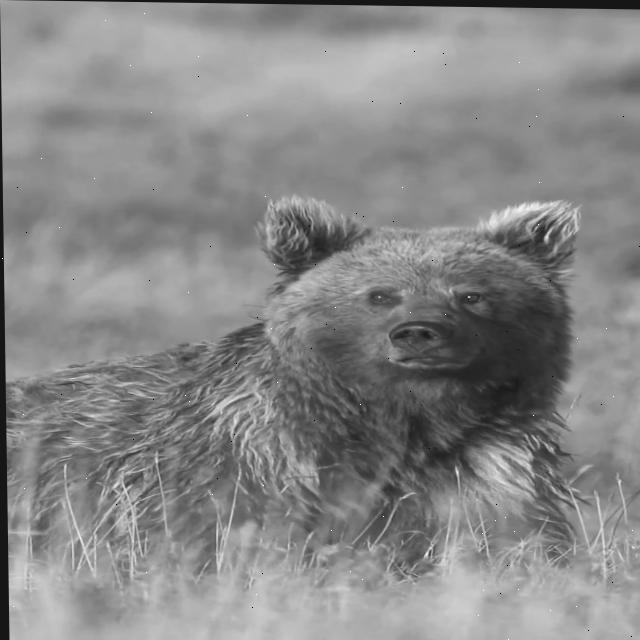Bear: (3, 189, 593, 599)
